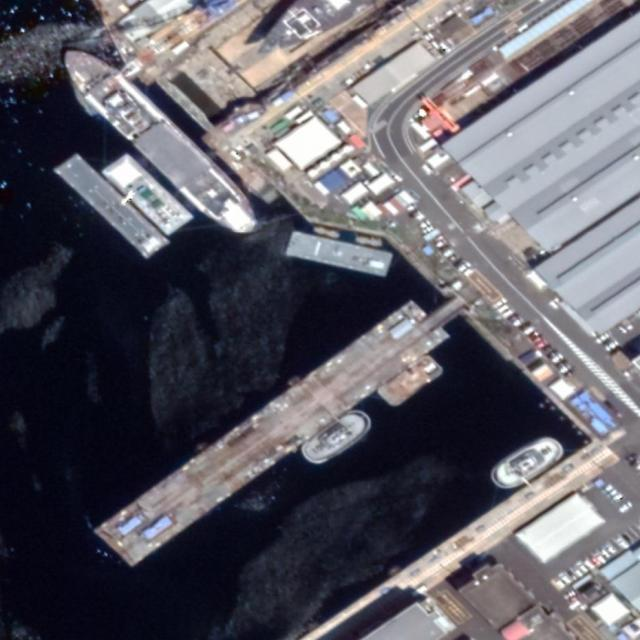Dock: (93, 293, 454, 570)
Hovercraft: (297, 401, 378, 471), (487, 429, 568, 496)
Other Ship: (49, 34, 270, 252)
